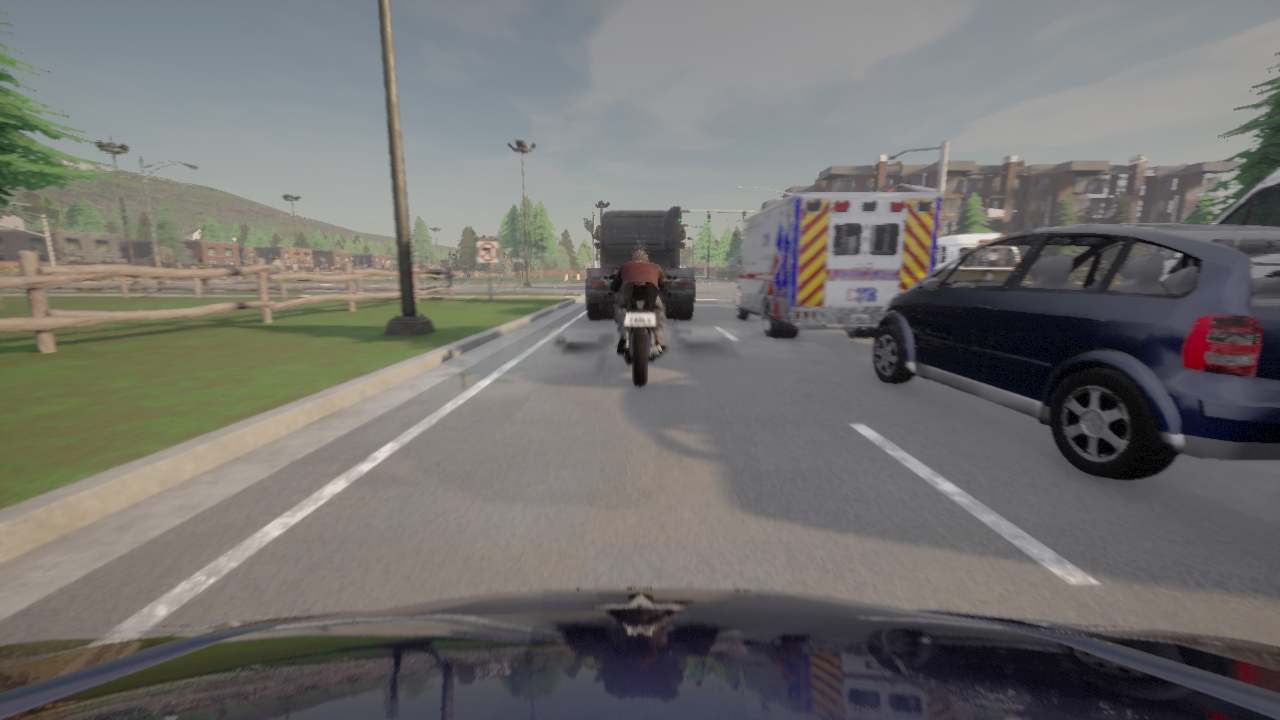cyclist: (0, 588, 1279, 719), (872, 224, 1279, 479), (727, 193, 942, 337), (586, 207, 694, 319), (608, 275, 672, 385), (1212, 169, 1279, 226), (935, 234, 1004, 270)
pedestrian: (271, 256, 287, 294), (198, 257, 214, 294)
